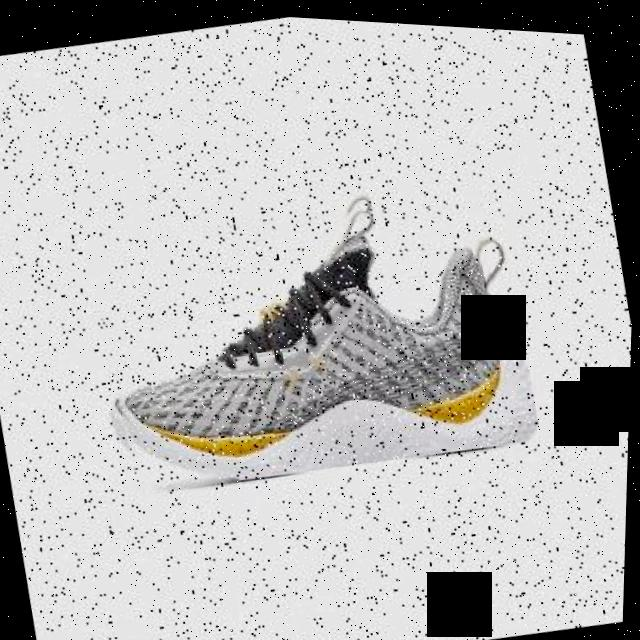shoe: (78, 154, 550, 514)
